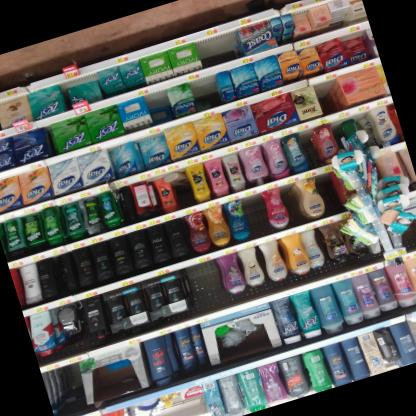empty_space: (186, 257, 225, 306), (198, 25, 238, 66), (58, 362, 86, 406), (240, 191, 268, 235), (316, 170, 340, 211), (190, 72, 217, 108), (277, 179, 296, 217), (315, 78, 334, 110)
